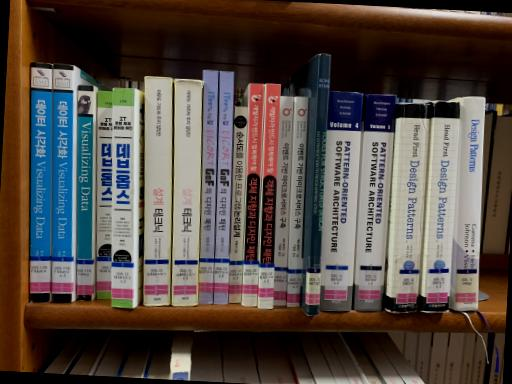book-spine: (319, 91, 362, 311), (354, 94, 395, 312), (388, 103, 429, 314), (424, 102, 459, 313), (451, 97, 484, 311), (171, 79, 201, 306), (144, 77, 171, 306), (307, 54, 330, 315), (28, 63, 51, 302), (111, 88, 134, 308), (51, 64, 72, 303), (242, 83, 264, 307), (285, 97, 308, 307), (258, 84, 279, 309), (198, 70, 218, 304), (213, 70, 233, 304), (273, 97, 293, 305), (228, 106, 247, 303), (76, 86, 93, 301), (96, 91, 112, 299)
